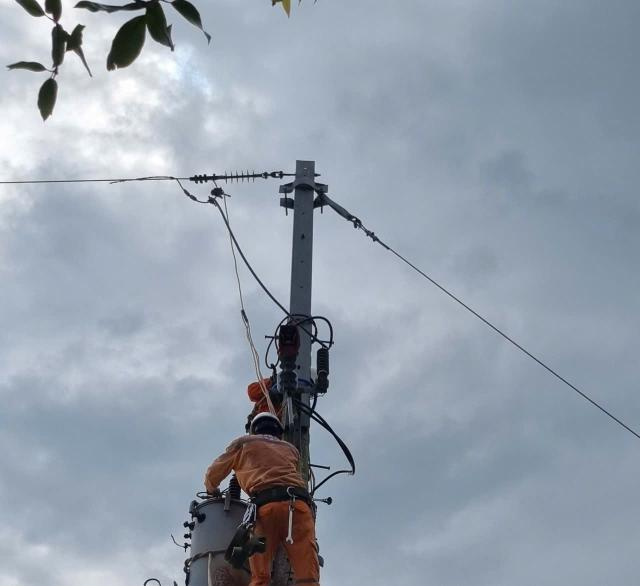harness: (242, 474, 335, 514)
helmet: (245, 411, 294, 436)
